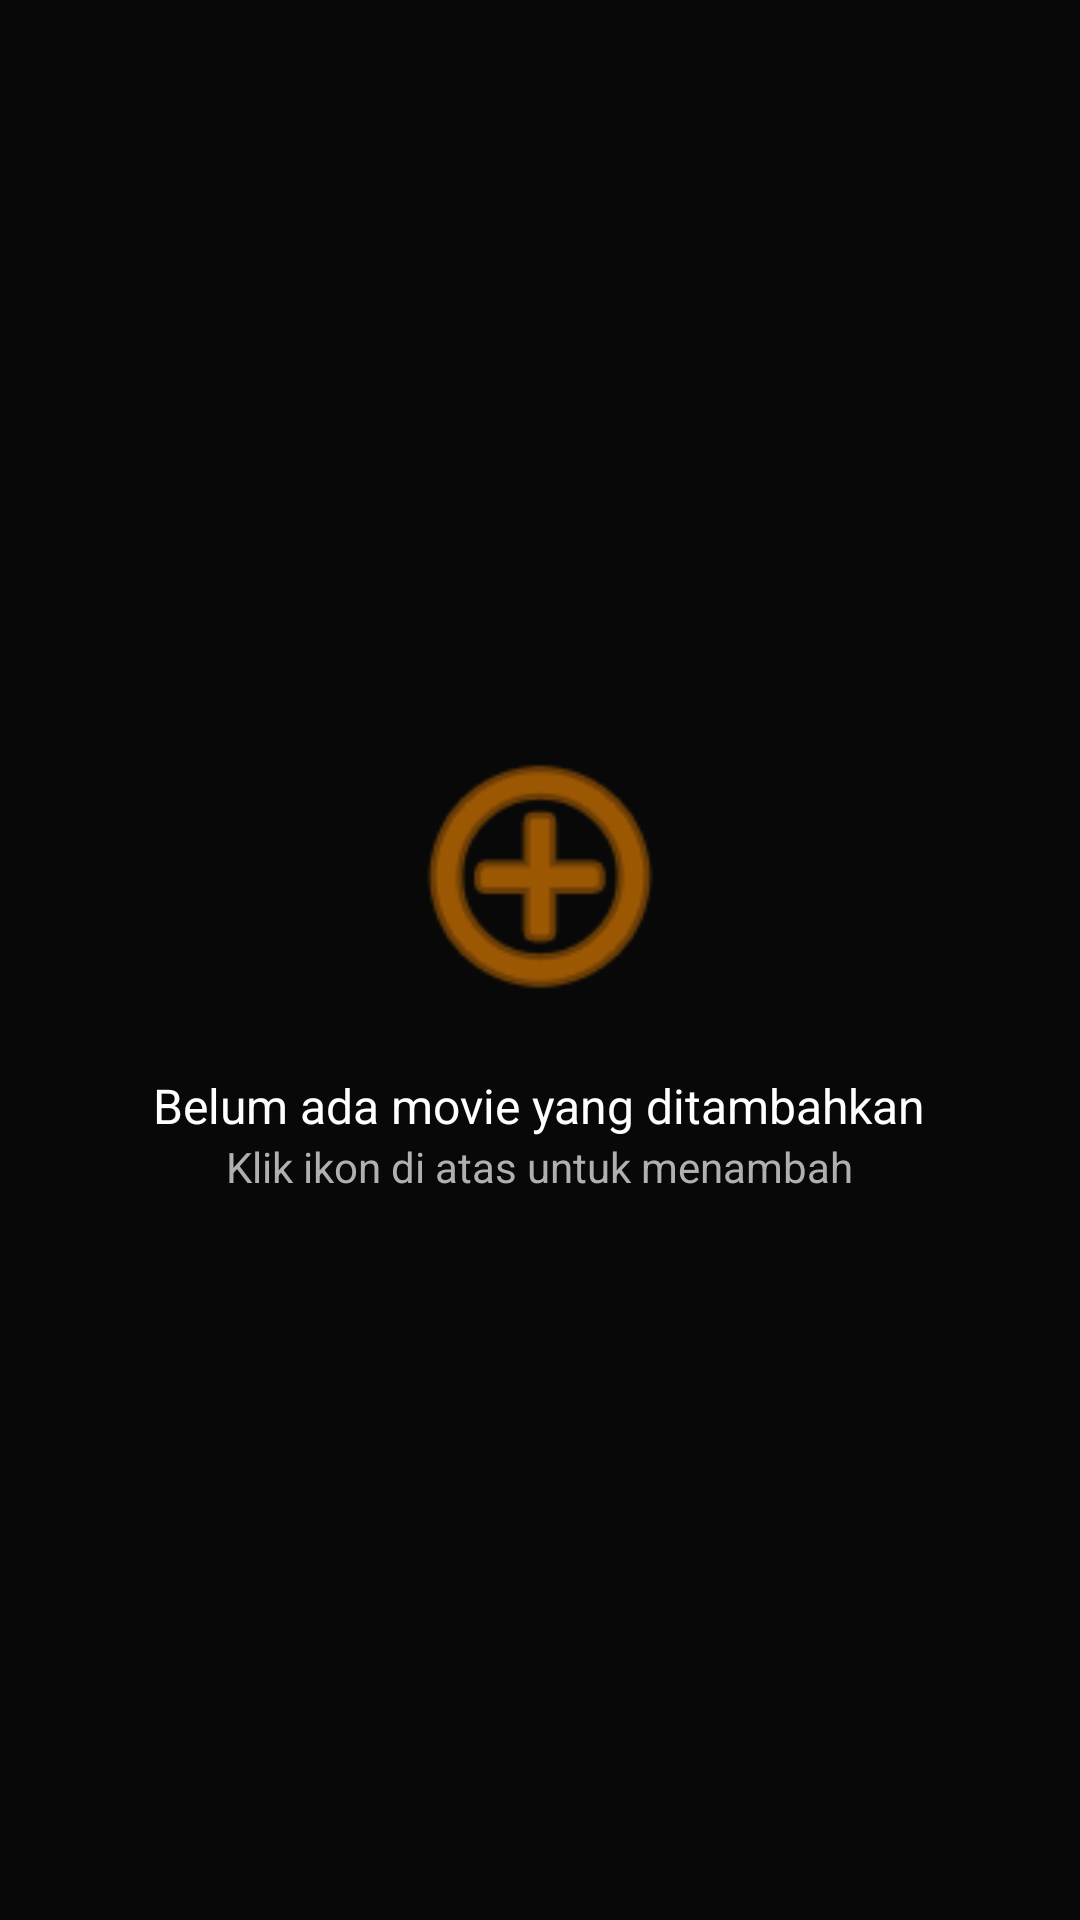

Icons on this 1080*1920 Android screen, each with its box as (x1, y1, x2, y2):
add: (428, 765, 652, 988)
